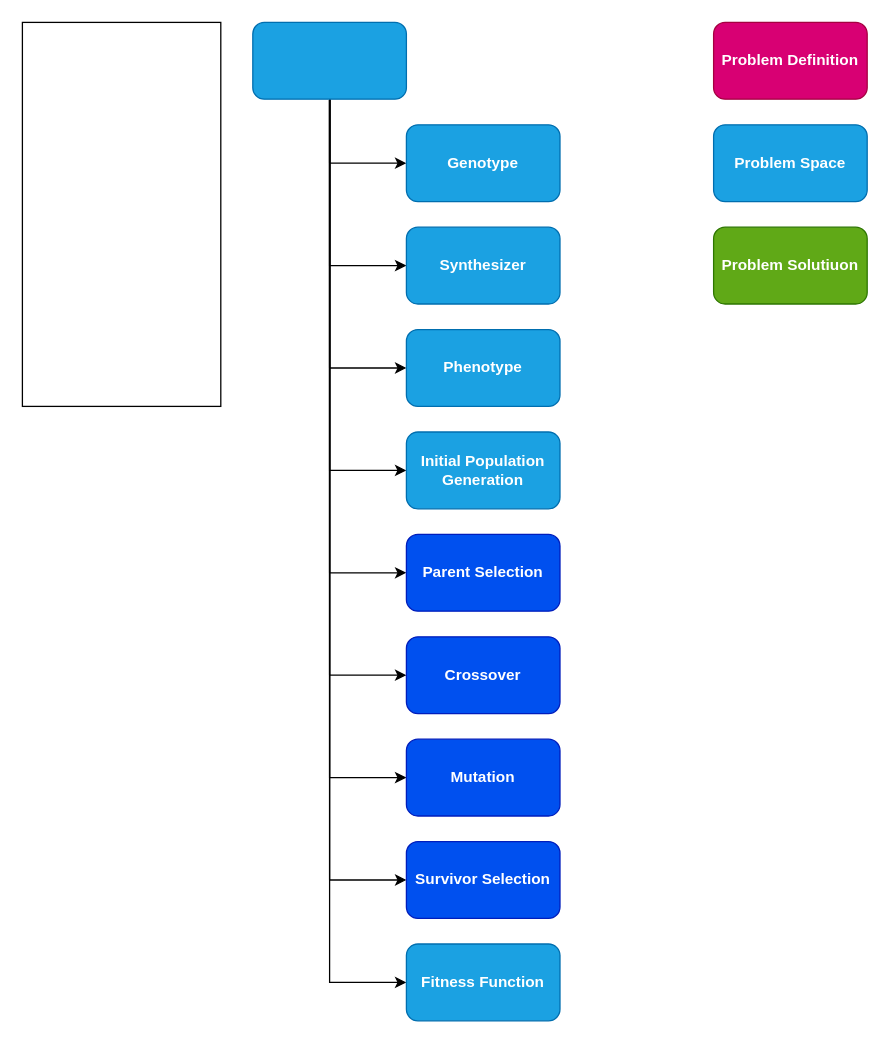
Some shapes in this 890 by 1043 pixel diagram are drawn without their labels. The shapes that lost their labels are listed below. From the top down, each one's centre as x and y in pixels, then its label:
At pixel 329 60: "Evolutionary Algorithm".
At pixel 121 213: "Legend".
